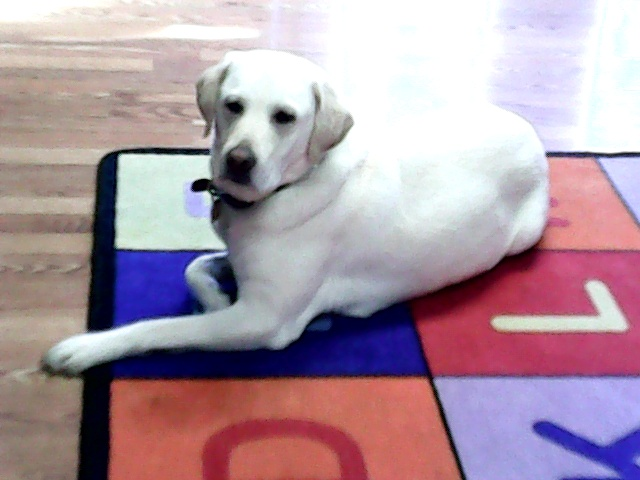dog: (39, 48, 551, 380)
